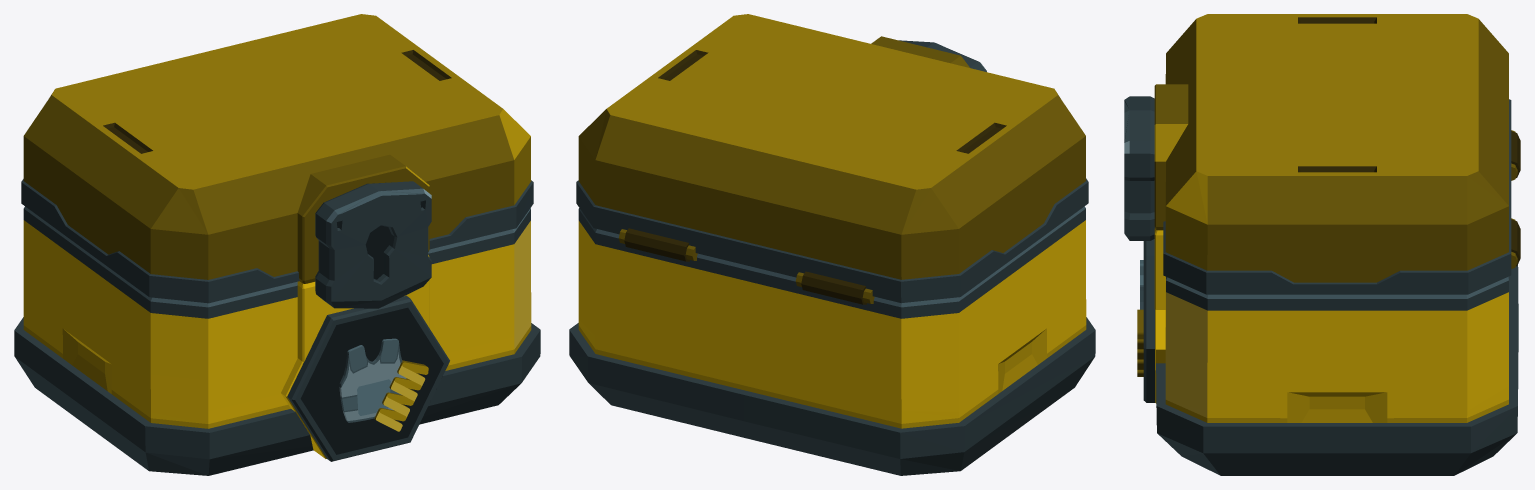
File: BOX_MATERAL_G3_04.fbx
3 views of the same model, side by side, from view 1: azimuth 30°, elevation 25°; view 2: azimuth 150°, elevation 25°; view 3: azimuth 270°, elevation 25° (orthographic). The views are drawn at different scales.
Parts seen in each view (by area): view 1: Object003, BOX_MATERAL_G3_04, Object004; view 2: Object003, BOX_MATERAL_G3_04; view 3: Object003, BOX_MATERAL_G3_04, Object004.
Boxes of the visible parts, x1,y1,x2,y2 form: Object003: [21, 14, 533, 303]; BOX_MATERAL_G3_04: [14, 206, 540, 475]; Object004: [315, 181, 431, 308]; Object003: [576, 14, 1088, 304]; BOX_MATERAL_G3_04: [569, 206, 1095, 475]; Object003: [1154, 14, 1520, 294]; BOX_MATERAL_G3_04: [1137, 228, 1518, 475]; Object004: [1124, 96, 1154, 240].
Size of the model in its own units: 187 by 128 by 158.
